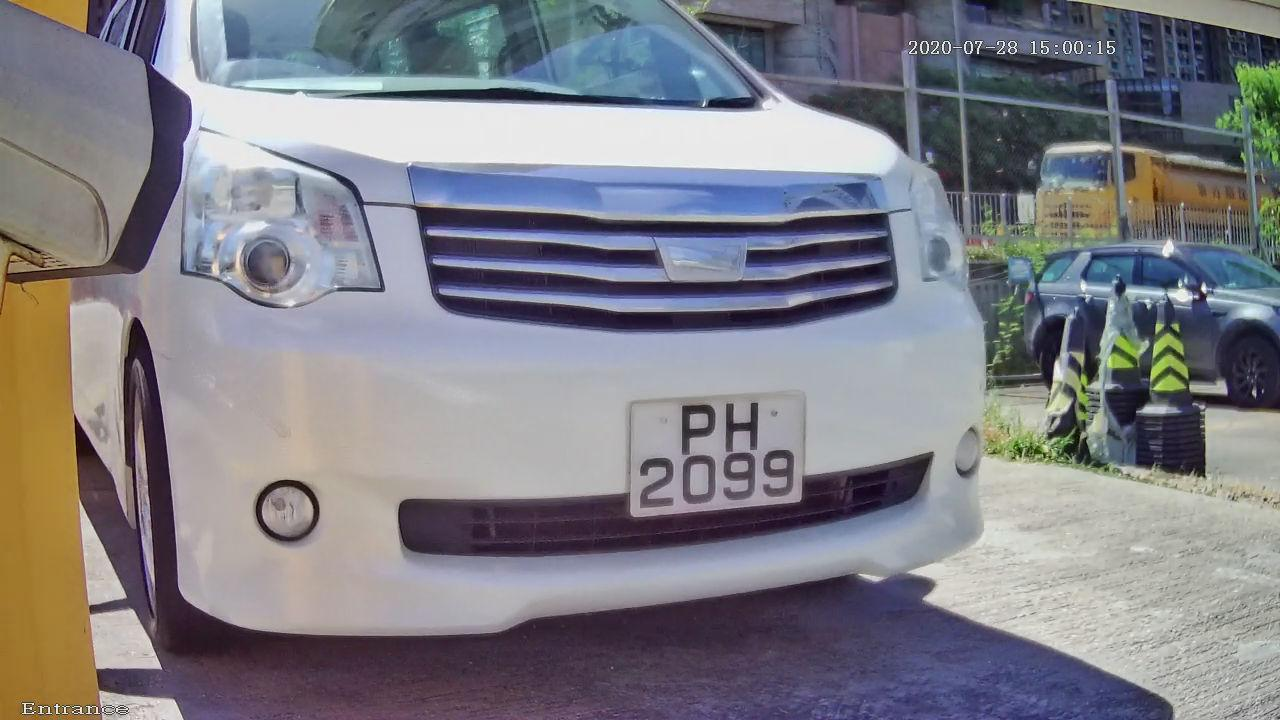privatecar: (58, 1, 1016, 638)
